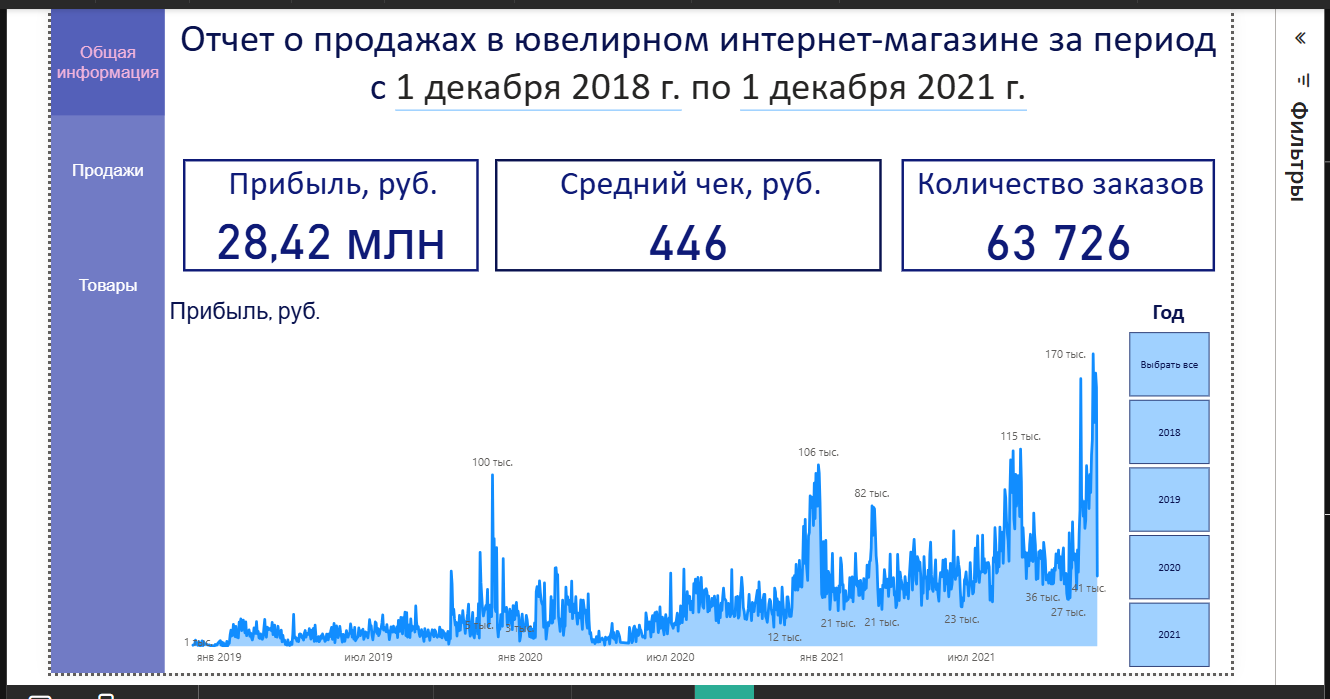

Layout of this report page (visuals, bound fields, positions):
{"tool":"powerbi","page":{"name":"Общая информация","canvas":[1280,720],"ordinal":0},"visuals":[{"type":"card","title":"Средний чек, руб.","fields":{"Values":["jewelry-purchases._СрЧек"]},"box":[481.5,162.7,419.6,122],"z":0},{"type":"areaChart","title":"Прибыль, руб.","fields":{"Category":["CALENDAR.Date"],"Y":["Sum(jewelry-purchases.Price)"]},"box":[123.6,313.9,1042.6,406.6],"z":1000},{"type":"slicer","title":"Год","fields":{"Values":["CALENDAR.Year"]},"box":[1143.5,313.9,136.6,406.6],"z":2000},{"type":"card","title":"Прибыль, руб.","fields":{"Values":["jewelry-purchases._Прибыль"]},"box":[143.1,162.7,320.4,122],"z":3000},{"type":"textbox","box":[123.6,0,1156.5,115.5],"z":4000},{"type":"card","title":"Количество заказов","fields":{"Values":["Count(jewelry-purchases.Order ID)"]},"box":[922.3,162.7,339.9,122],"z":5000},{"type":"actionButton","box":[0,0,123.6,720.6],"z":6000},{"type":"actionButton","box":[0,0,123.6,115.5],"z":7000},{"type":"actionButton","box":[0,112.2,123.6,125.2],"z":8000},{"type":"actionButton","box":[0,237.5,123.6,123.6],"z":9000}]}

Visuals, with their boxes on the page's 1280x720 design canvas (x1, y1, x2, y2). These are canvas units, not pixel positions in the 1330x699 screenshot, which may show the page scaled, cropped or inside an application window:
"Средний чек, руб." card: <bbox>482, 163, 901, 285</bbox>
"Прибыль, руб." areaChart: <bbox>124, 314, 1166, 720</bbox>
"Год" slicer: <bbox>1144, 314, 1280, 720</bbox>
"Прибыль, руб." card: <bbox>143, 163, 464, 285</bbox>
textbox: <bbox>124, 0, 1280, 116</bbox>
"Количество заказов" card: <bbox>922, 163, 1262, 285</bbox>
actionButton: <bbox>0, 0, 124, 721</bbox>
actionButton: <bbox>0, 0, 124, 116</bbox>
actionButton: <bbox>0, 112, 124, 237</bbox>
actionButton: <bbox>0, 238, 124, 361</bbox>
